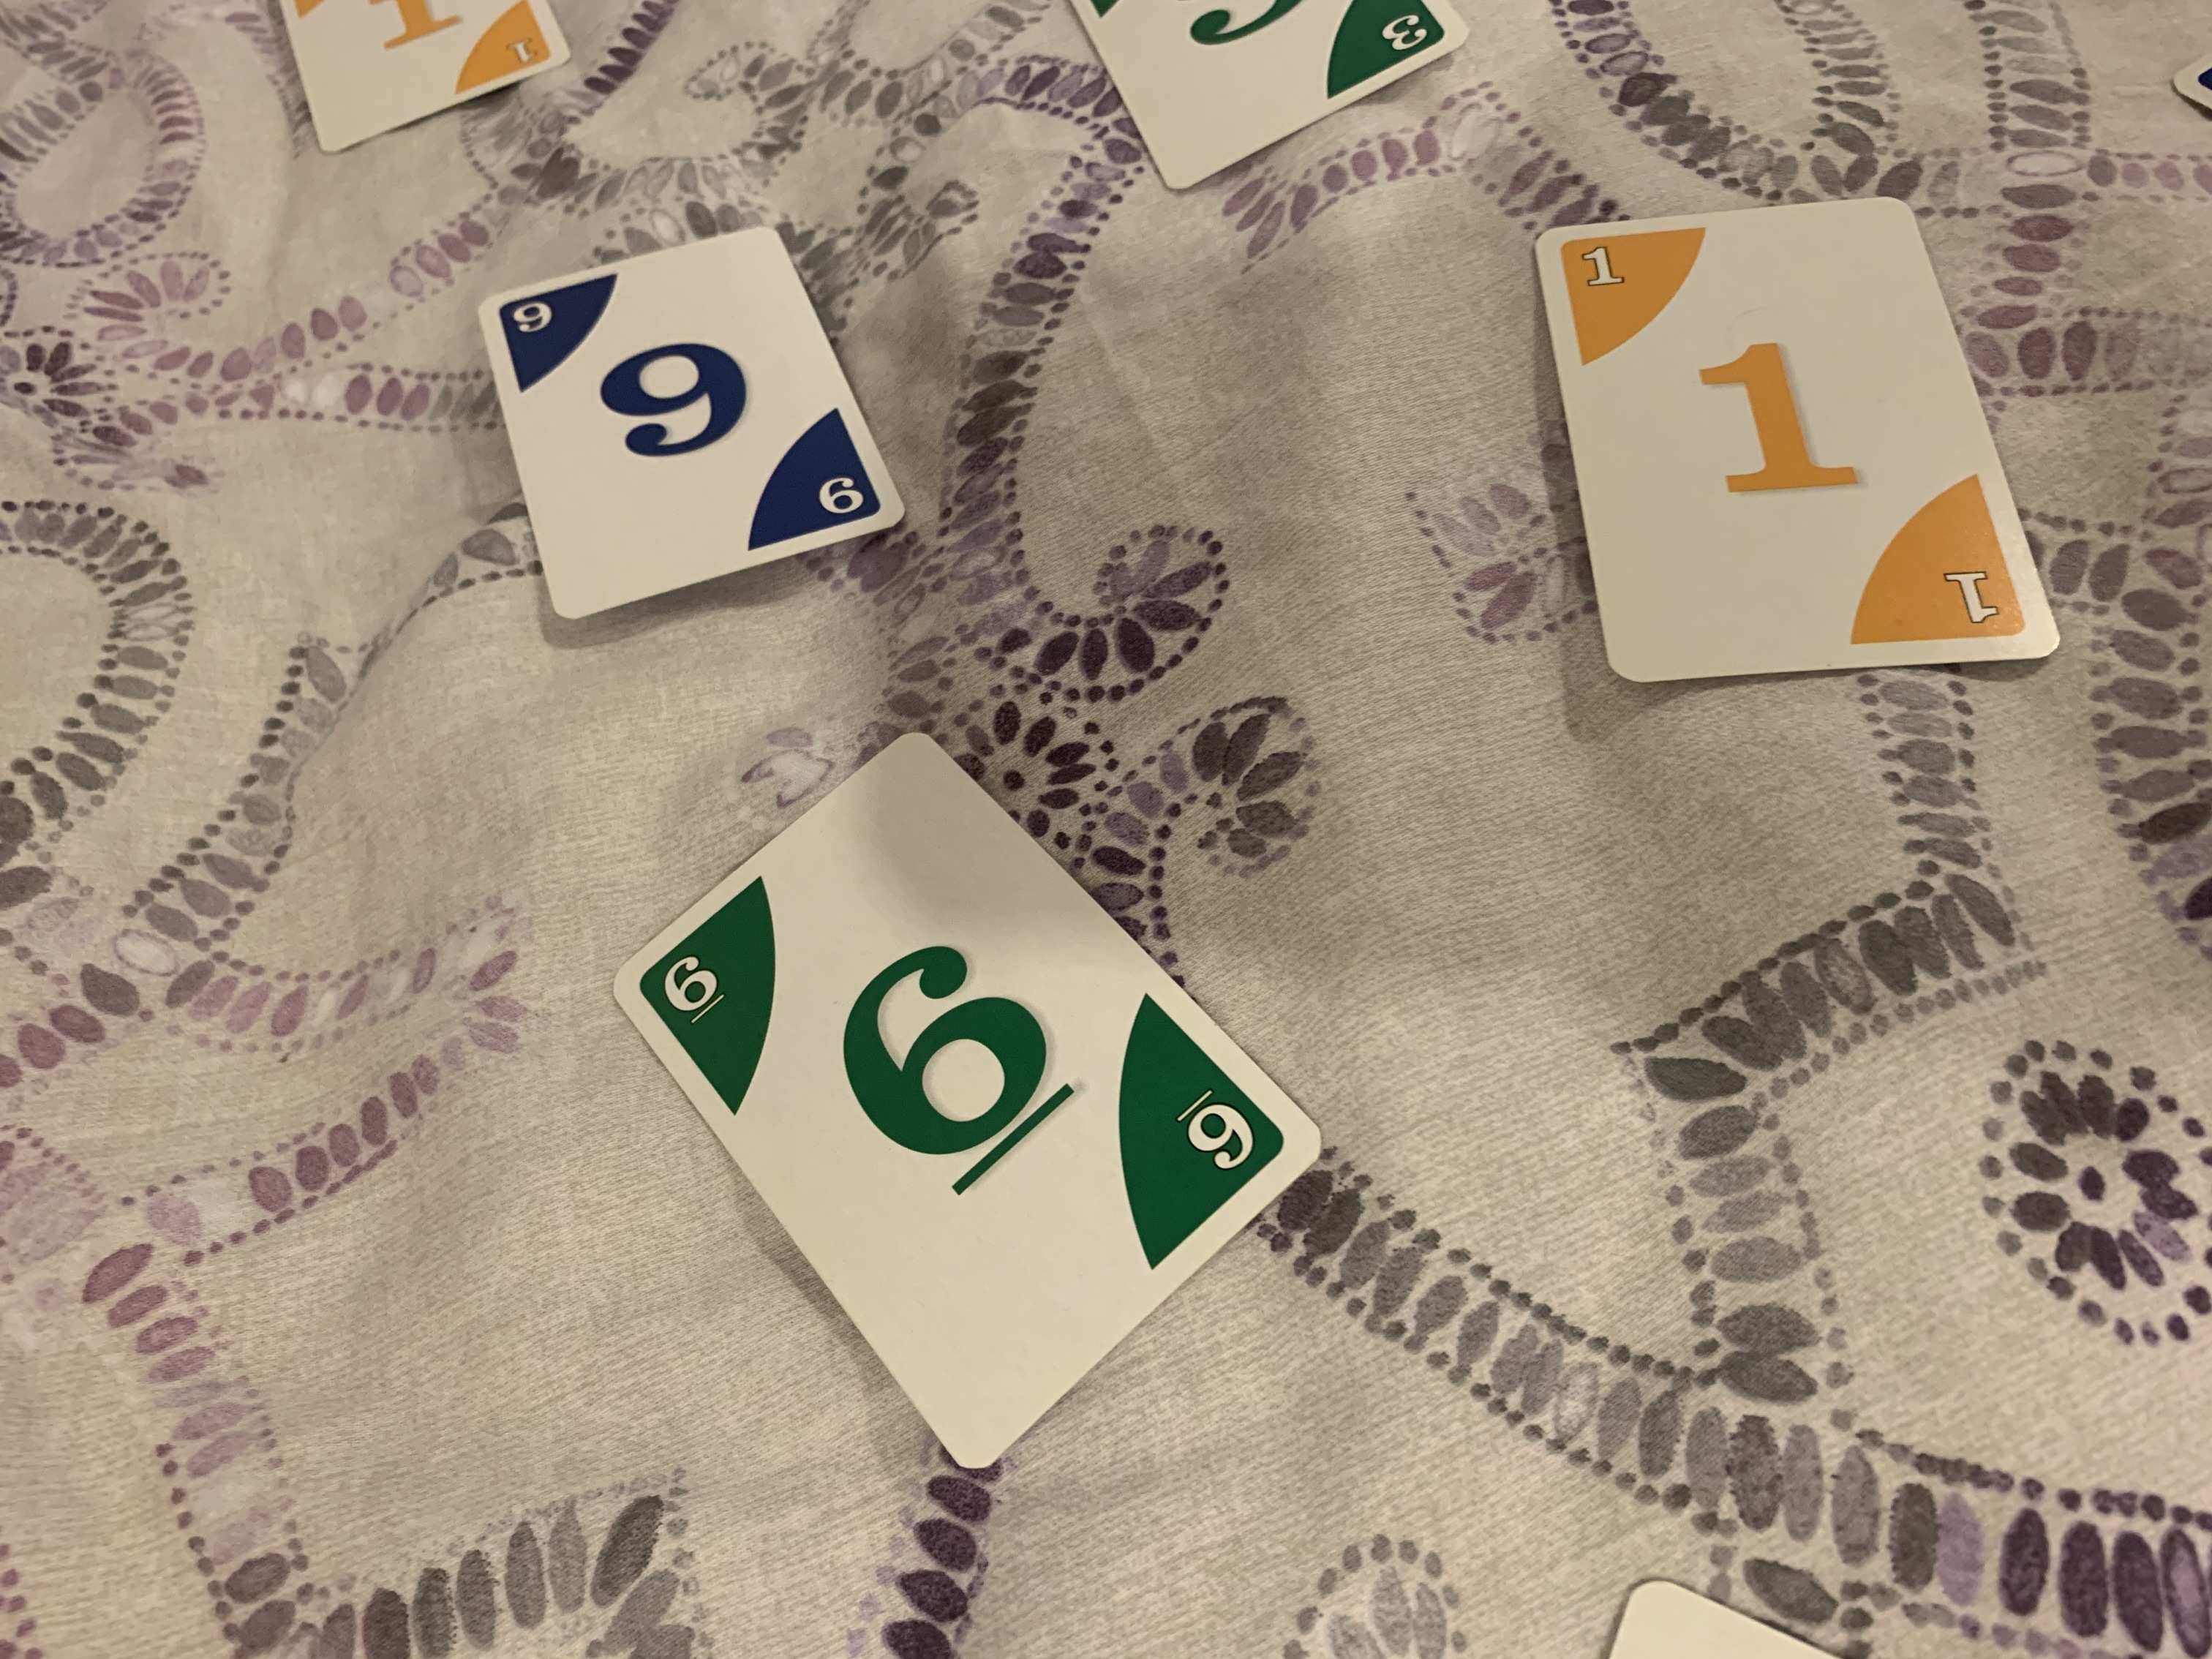nine: (474, 223, 911, 627)
one: (1524, 192, 2064, 692)
six: (599, 723, 1332, 1486)
